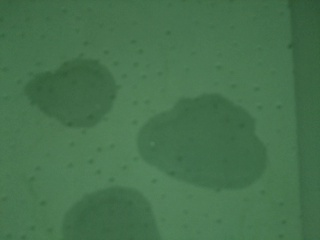Water_detected: (149, 103, 235, 178), (81, 195, 165, 240), (42, 70, 107, 121)
